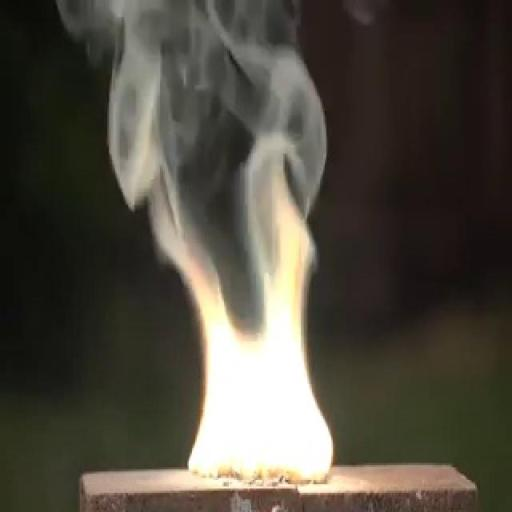smoke: (184, 200, 334, 487)
